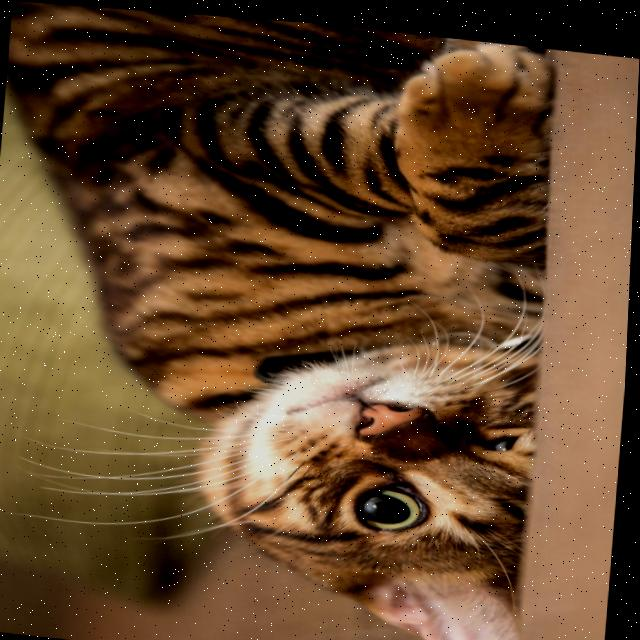Toyger: (0, 0, 569, 640)
